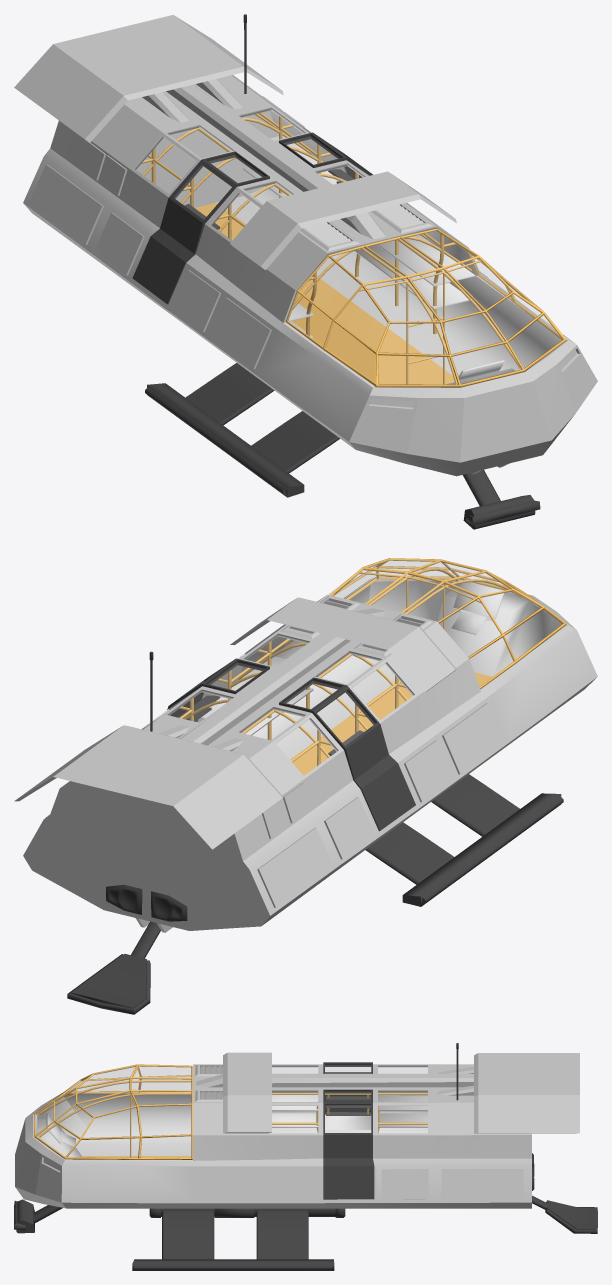
The model's file is StandardF.glb.
The picture shows the model from 3 angles, top to bottom: view 1: azimuth 30°, elevation 25°; view 2: azimuth 150°, elevation 25°; view 3: azimuth 270°, elevation 25°; orthographic projection. The views are drawn at different scales.
Parts seen in each view (by area): view 1: Shuttle.002, Shuttle.000, Shuttle.013, Shuttle.011, Shuttle.009, Shuttle.010, Shuttle.008; view 2: Shuttle.002, Shuttle.000, Shuttle.013, Shuttle.009, Shuttle.010, Shuttle.011, Shuttle.008; view 3: Shuttle.002, Shuttle.000, Shuttle.013, Shuttle.009, Shuttle.010, Shuttle.008, Shuttle.011.
Part boxes in pixels (bbox=[...]): Shuttle.002: bbox=[14, 15, 597, 476]; Shuttle.000: bbox=[136, 109, 562, 383]; Shuttle.013: bbox=[134, 107, 568, 388]; Shuttle.011: bbox=[141, 112, 520, 384]; Shuttle.009: bbox=[145, 363, 540, 529]; Shuttle.010: bbox=[132, 14, 372, 304]; Shuttle.008: bbox=[285, 228, 566, 387]; Shuttle.002: bbox=[14, 579, 597, 932]; Shuttle.000: bbox=[169, 560, 562, 774]; Shuttle.013: bbox=[141, 577, 569, 759]; Shuttle.009: bbox=[67, 774, 563, 1014]; Shuttle.010: bbox=[106, 651, 415, 921]; Shuttle.011: bbox=[179, 567, 521, 775]; Shuttle.008: bbox=[329, 558, 566, 688]; Shuttle.002: bbox=[15, 1052, 579, 1208]; Shuttle.000: bbox=[36, 1065, 427, 1157]; Shuttle.013: bbox=[33, 1065, 427, 1160]; Shuttle.009: bbox=[14, 1195, 597, 1270]; Shuttle.010: bbox=[323, 1043, 534, 1199]; Shuttle.008: bbox=[34, 1064, 192, 1159]; Shuttle.011: bbox=[38, 1067, 427, 1157].
Size of the model in its own units: 5.21 by 4.85 by 13.07.
